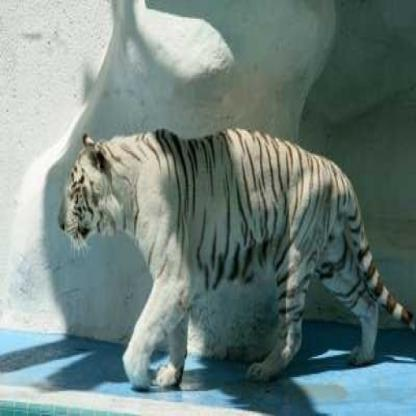Tiger: (51, 115, 416, 394)
